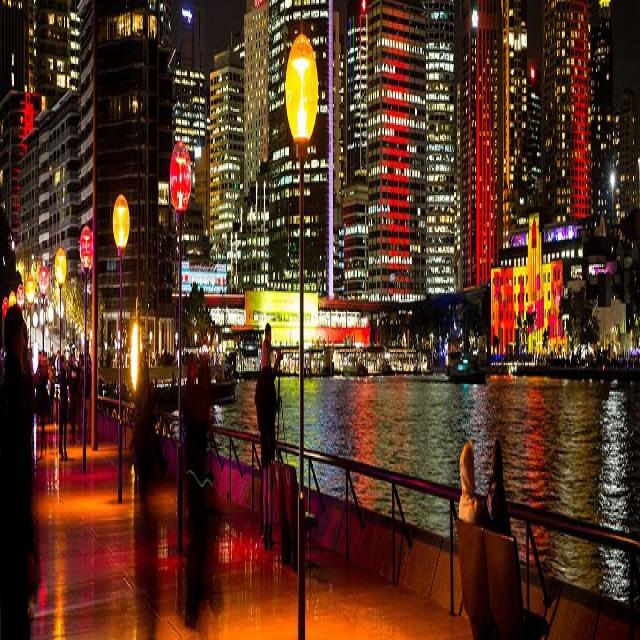body: (0, 301, 35, 640), (181, 354, 212, 627), (183, 502, 226, 638), (128, 501, 167, 638), (255, 336, 279, 555), (531, 344, 640, 376), (482, 437, 512, 538), (259, 320, 272, 539), (182, 349, 196, 536), (147, 376, 169, 482), (458, 438, 483, 525), (35, 348, 46, 462), (134, 349, 144, 459), (58, 353, 68, 462), (20, 317, 34, 390), (68, 348, 78, 447), (83, 355, 91, 448), (76, 352, 83, 446), (48, 355, 54, 424), (142, 347, 150, 389), (158, 179, 169, 205), (45, 363, 49, 424), (40, 346, 50, 364), (29, 347, 35, 376), (0, 344, 4, 384), (50, 342, 54, 368)
